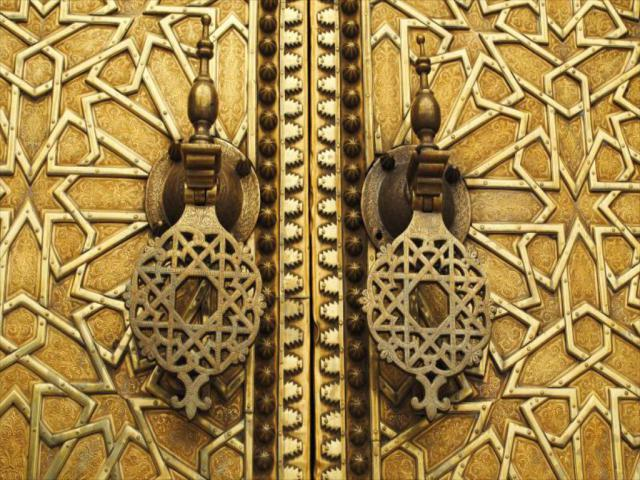Door-handle: (122, 10, 266, 422), (121, 12, 266, 420), (355, 32, 497, 424), (357, 34, 498, 426)
